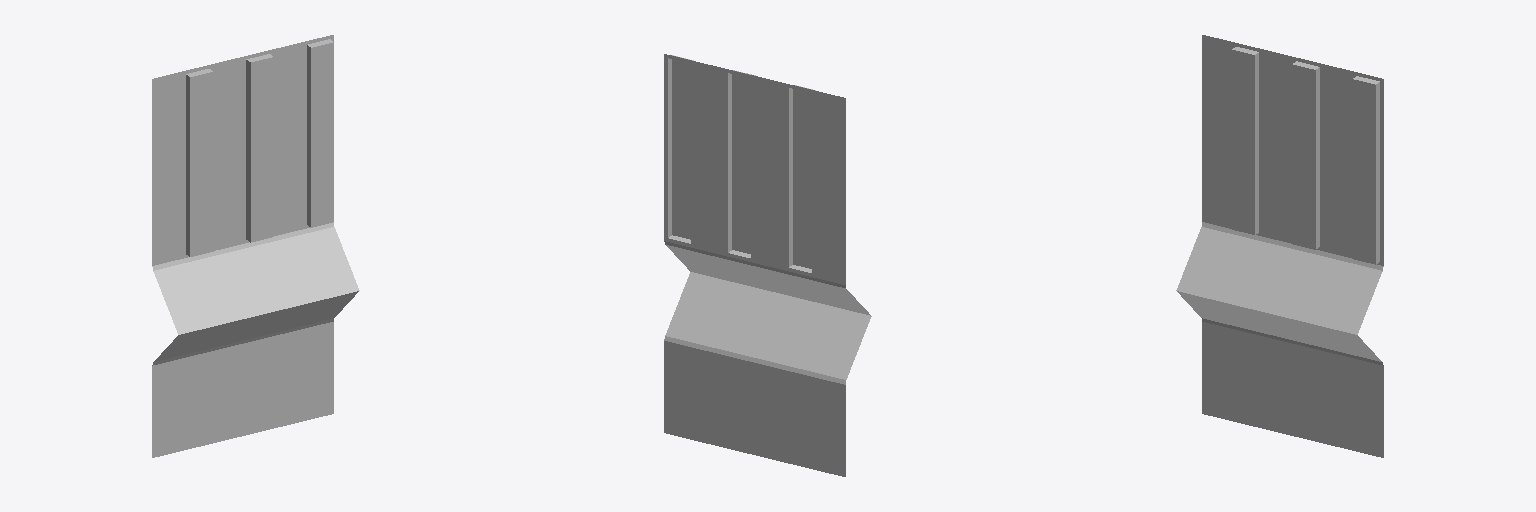
File: wall_part_0.obj
3 renders of one model, left to right at view 1: azimuth 30°, elevation 25°; view 2: azimuth 150°, elevation 25°; view 3: azimuth 330°, elevation 25°, orthographic.
Parts seen in each view (by area): view 1: Cube.003_Cube.006; view 2: Cube.003_Cube.006; view 3: Cube.003_Cube.006.
Part boxes in pixels (x1,y1,x2,y2): Cube.003_Cube.006: (152,35,359,457); Cube.003_Cube.006: (664,54,871,476); Cube.003_Cube.006: (1176,35,1383,457).
Bounding box in the file's own units: 4 × 8 × 1.